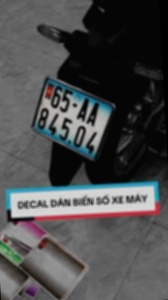Bien-so: (38, 74, 123, 165)
